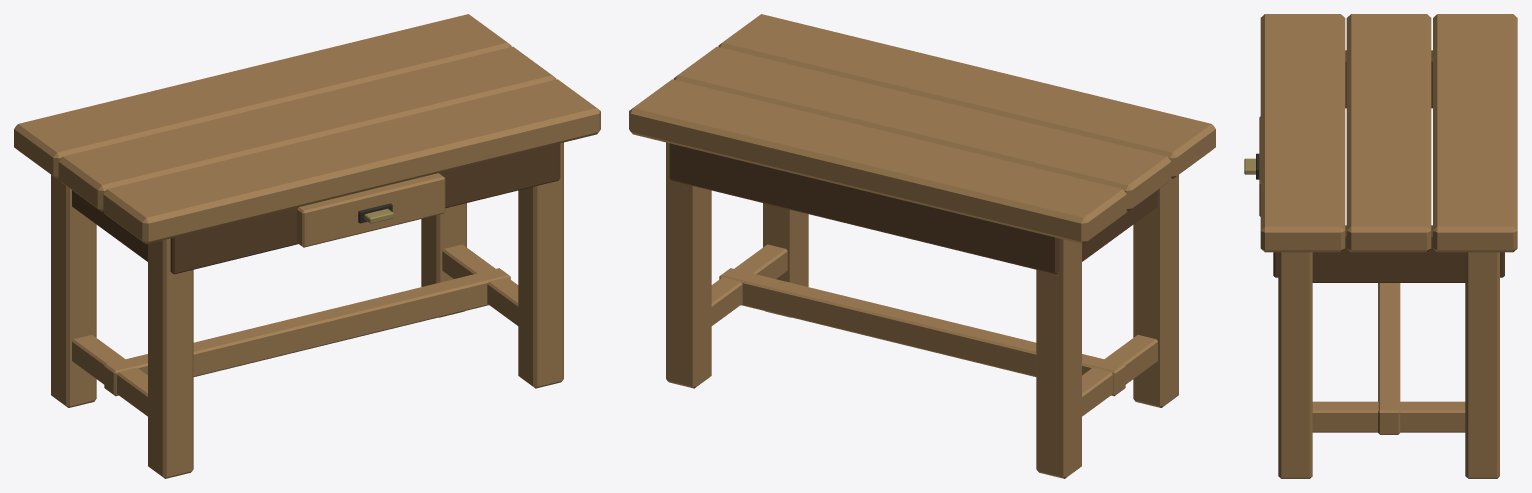
File: Library_ReadingTable.fbx
The picture shows the model from 3 angles, left to right: view 1: azimuth 30°, elevation 25°; view 2: azimuth 150°, elevation 25°; view 3: azimuth 270°, elevation 25°; orthographic projection. The views are drawn at different scales.
Parts seen in each view (by area): view 1: Top_plank_01, Top_plank_02, Top_plank_03, Lower_crossbar, Left_front_leg, Right_front_leg, Front_apron, Left_back_leg, Drawer_face, Right_back_leg, Foot_stretcher_left, Foot_stretcher_right (+1 smaller); view 2: Top_plank_03, Top_plank_02, Top_plank_01, Back_apron, Lower_crossbar, Left_back_leg, Right_back_leg, Left_front_leg, Right_front_leg, Foot_stretcher_left, Foot_stretcher_right, Side_apron_left; view 3: Top_plank_01, Top_plank_02, Top_plank_03, Right_front_leg, Right_back_leg, Side_apron_right, Foot_stretcher_right, Lower_crossbar.
Part boxes in pixels (bbox=[...]): Top_plank_01: bbox=[103, 79, 600, 244]; Top_plank_02: bbox=[58, 46, 556, 211]; Top_plank_03: bbox=[14, 14, 511, 178]; Lower_crossbar: bbox=[104, 268, 510, 396]; Left_front_leg: bbox=[148, 238, 193, 478]; Right_front_leg: bbox=[518, 142, 563, 388]; Front_apron: bbox=[170, 143, 560, 274]; Left_back_leg: bbox=[51, 175, 96, 407]; Drawer_face: bbox=[297, 173, 445, 247]; Right_back_leg: bbox=[421, 203, 466, 317]; Foot_stretcher_left: bbox=[72, 335, 147, 416]; Foot_stretcher_right: bbox=[442, 244, 518, 325]; Top_plank_03: bbox=[629, 79, 1126, 244]; Top_plank_02: bbox=[673, 46, 1171, 211]; Top_plank_01: bbox=[718, 14, 1215, 178]; Back_apron: bbox=[669, 143, 1059, 274]; Lower_crossbar: bbox=[719, 268, 1125, 396]; Left_back_leg: bbox=[1036, 238, 1081, 478]; Right_back_leg: bbox=[666, 142, 711, 388]; Left_front_leg: bbox=[1133, 175, 1178, 407]; Right_front_leg: bbox=[763, 203, 808, 317]; Foot_stretcher_left: bbox=[1082, 335, 1157, 416]; Foot_stretcher_right: bbox=[711, 244, 787, 325]; Side_apron_left: bbox=[1082, 190, 1157, 261]; Top_plank_01: bbox=[1260, 14, 1345, 252]; Top_plank_02: bbox=[1346, 14, 1431, 252]; Top_plank_03: bbox=[1433, 14, 1517, 252]; Right_front_leg: bbox=[1278, 252, 1312, 478]; Right_back_leg: bbox=[1465, 252, 1499, 478]; Side_apron_right: bbox=[1312, 225, 1465, 282]; Foot_stretcher_right: bbox=[1312, 401, 1465, 432]; Lower_crossbar: bbox=[1378, 283, 1400, 434].
Size of the model in its own units: 2.08 by 1.19 by 1.11.
